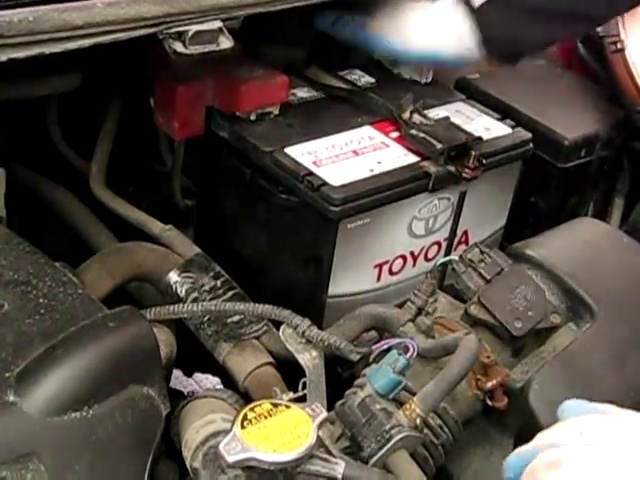battery: (166, 58, 532, 191)
pos_connected: (154, 68, 301, 159)
